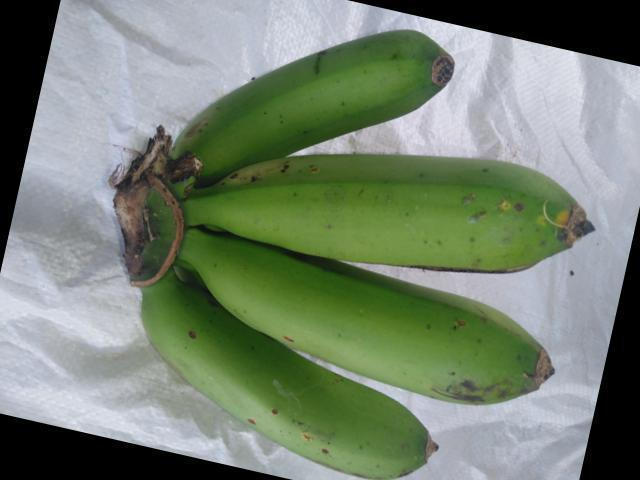unripe: (189, 235, 563, 399), (138, 288, 454, 475), (179, 142, 596, 277), (141, 18, 457, 177)
